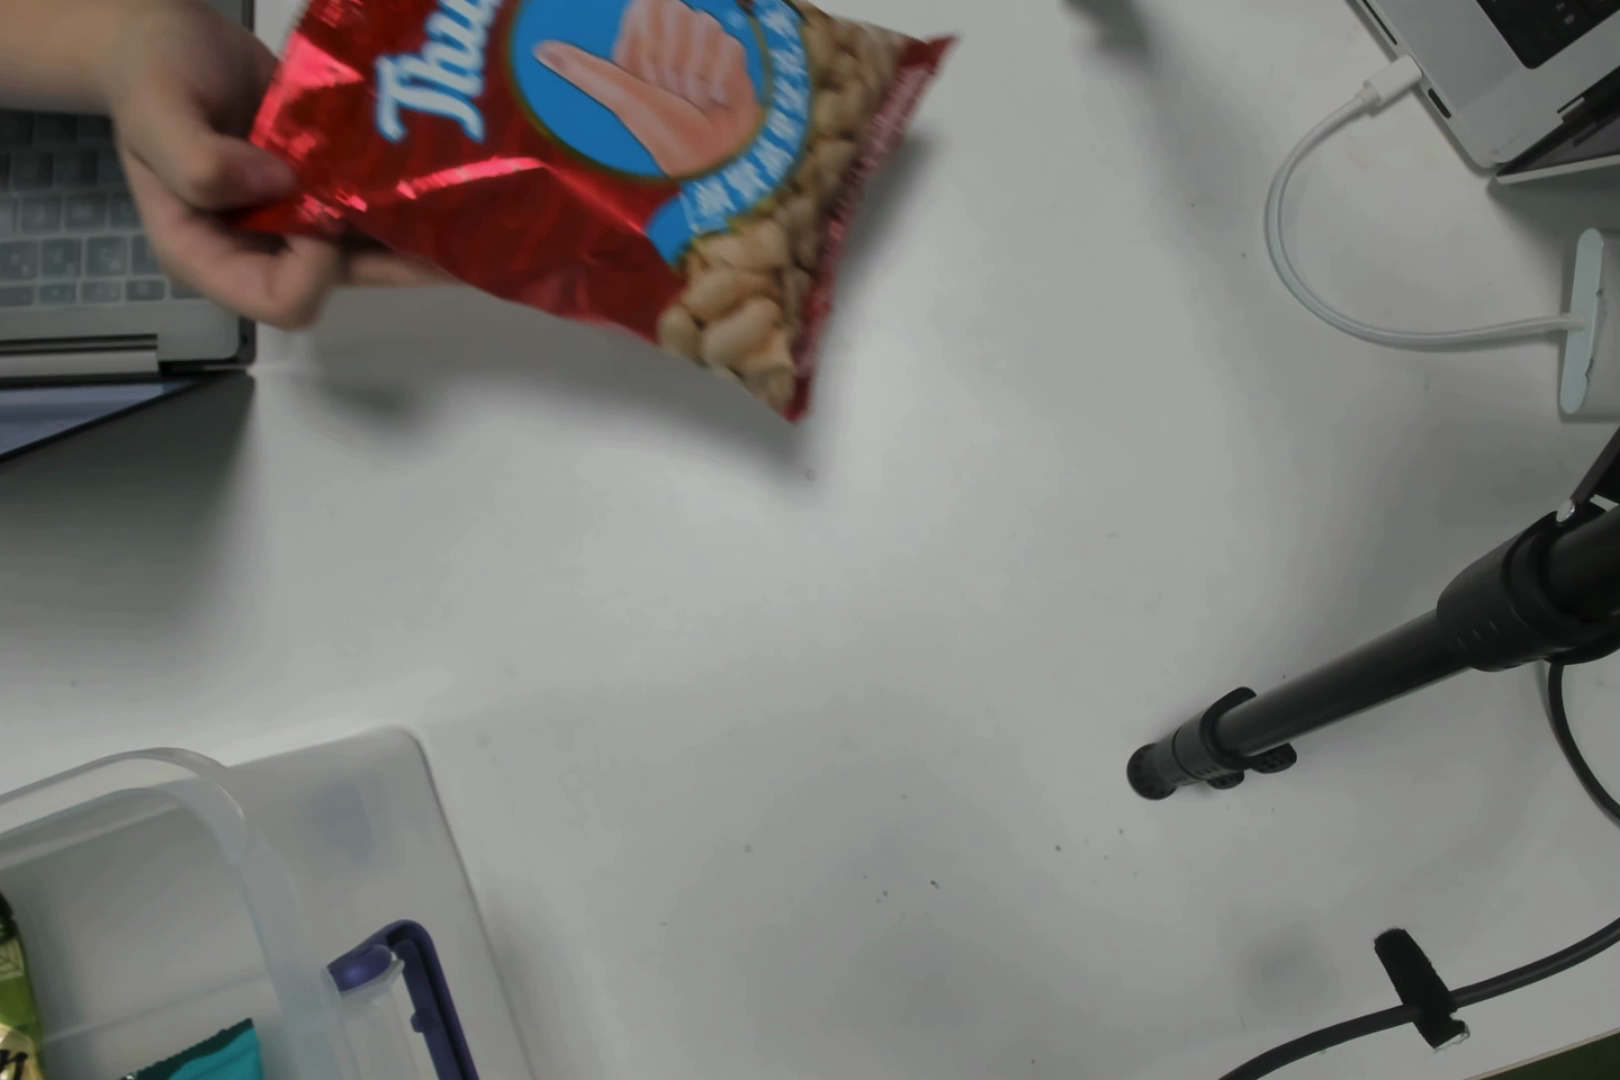Nuts_100-199g_Halal_NonHealthy: (344, 12, 943, 328)
